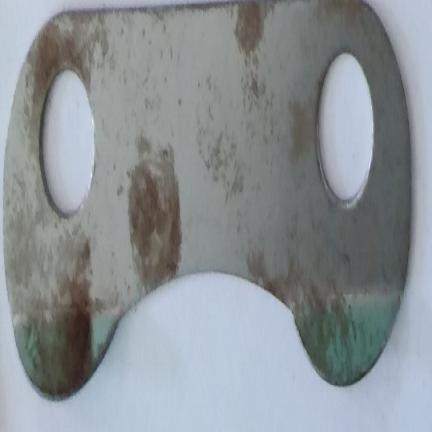besi_tidak_karat: (2, 8, 240, 365), (240, 0, 409, 391)
karat: (29, 13, 90, 144), (129, 149, 181, 287), (37, 267, 91, 396), (236, 4, 263, 55)
